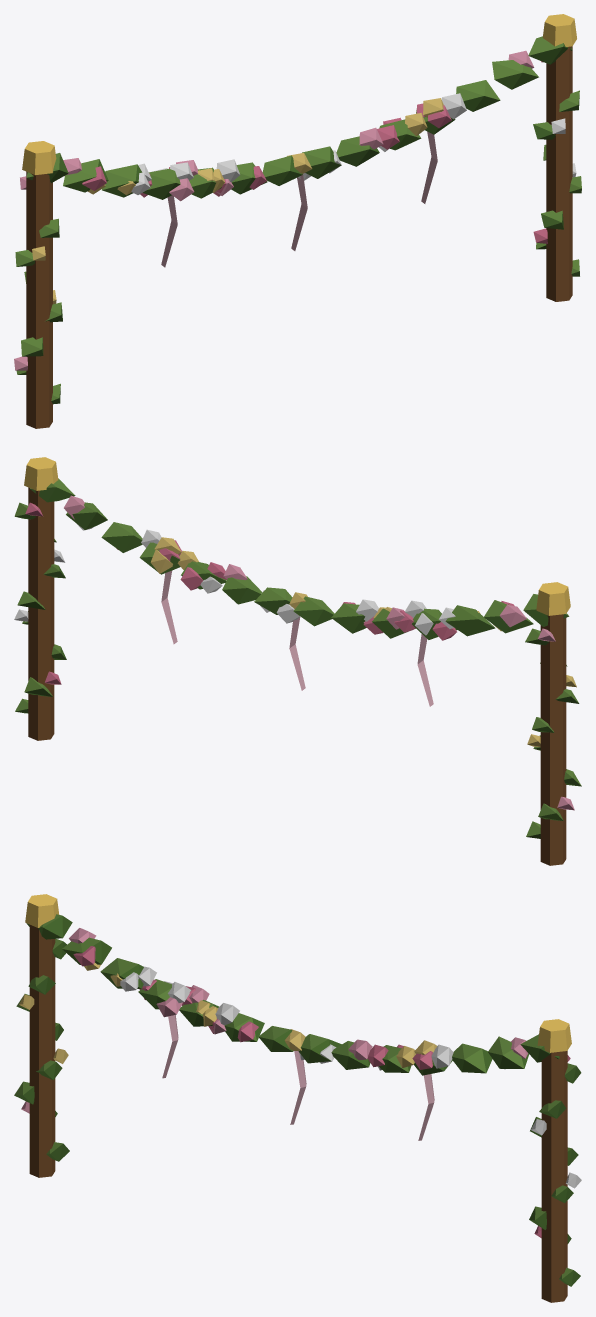
File: garland.glb
3 renders of one model, top to bottom at view 1: azimuth 30°, elevation 25°; view 2: azimuth 150°, elevation 25°; view 3: azimuth 330°, elevation 25°, orthographic.
Parts seen in each view (by area): view 1: base, garland_m; view 2: base, garland_m; view 3: base, garland_m.
Part boxes in pixels (box(x1,y1,x2,y2)): base: box(14, 14, 581, 428); garland_m: box(26, 36, 572, 267); base: box(14, 457, 581, 865); garland_m: box(30, 478, 569, 706); base: box(14, 894, 581, 1302); garland_m: box(26, 914, 559, 1140).
Size of the model in its own units: 1.44 by 0.6701 by 0.1149.
